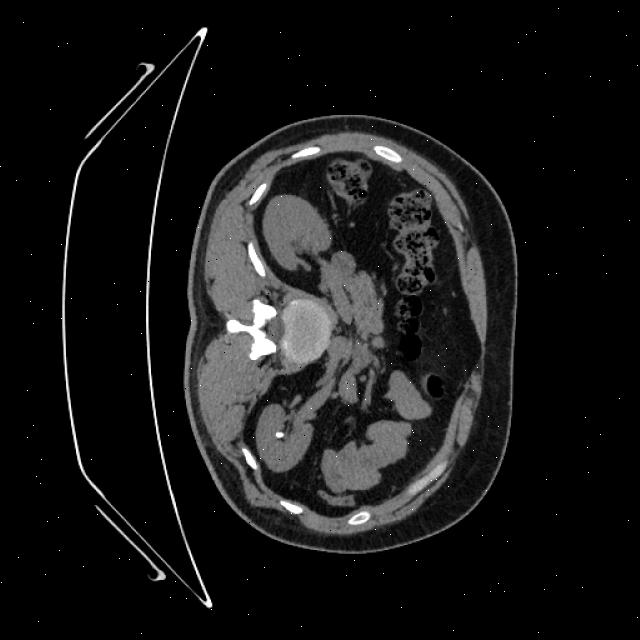kidneystone: (274, 431, 284, 439)
